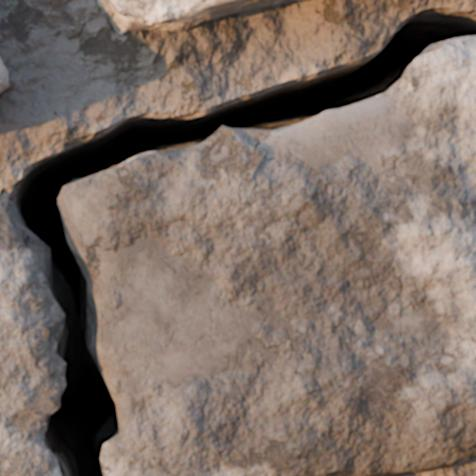brick: (98, 0, 293, 34), (0, 59, 8, 92)
broken_brick: (60, 37, 475, 475), (0, 201, 64, 475)
crack: (2, 0, 475, 475)
